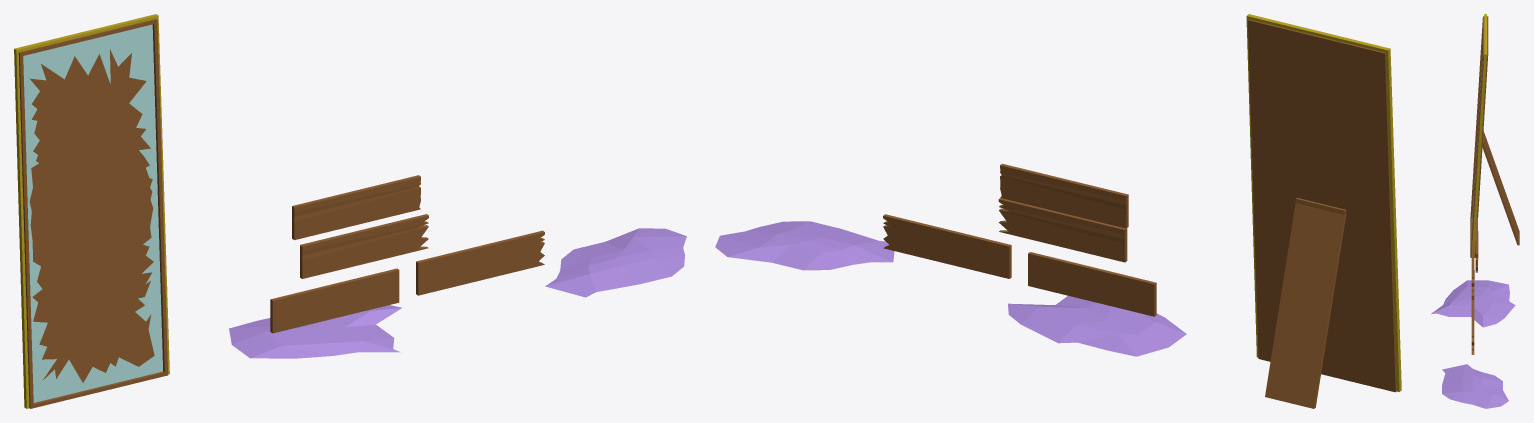
Rendered from Some Broken Things.fbx.
3 renders of one model, left to right at view 1: azimuth 30°, elevation 25°; view 2: azimuth 150°, elevation 25°; view 3: azimuth 270°, elevation 25°, orthographic. The views are drawn at different scales.
Parts seen in each view (by area): view 1: BrokenMirror, TornWallPiece2, TornWallPiece1, Log2, Log4, Log1, Log3; view 2: BrokenMirror, TornWallPiece1, TornWallPiece2, Log2, Log4, Log1, Log3; view 3: BrokenMirror, TornWallPiece1, TornWallPiece2, Log1, Log3, Log4.
Part boxes in pixels (x1=…): BrokenMirror: x1=14, y1=14, x2=169, y2=408; TornWallPiece2: x1=545, y1=228, x2=686, y2=297; TornWallPiece1: x1=229, y1=305, x2=402, y2=358; Log2: x1=270, y1=268, x2=399, y2=333; Log4: x1=292, y1=175, x2=420, y2=240; Log1: x1=416, y1=230, x2=544, y2=295; Log3: x1=300, y1=214, x2=428, y2=278; BrokenMirror: x1=1246, y1=14, x2=1401, y2=408; TornWallPiece1: x1=1008, y1=296, x2=1186, y2=356; TornWallPiece2: x1=715, y1=221, x2=894, y2=270; Log2: x1=1028, y1=252, x2=1156, y2=316; Log4: x1=1000, y1=163, x2=1128, y2=228; Log1: x1=883, y1=214, x2=1011, y2=278; Log3: x1=998, y1=198, x2=1127, y2=262; BrokenMirror: x1=1470, y1=14, x2=1519, y2=257; TornWallPiece1: x1=1431, y1=280, x2=1515, y2=327; TornWallPiece2: x1=1442, y1=364, x2=1508, y2=408; Log1: x1=1471, y1=300, x2=1474, y2=354; Log3: x1=1471, y1=241, x2=1474, y2=295; Log4: x1=1475, y1=217, x2=1478, y2=272.
Size of the model in its own units: 3.31 by 1.65 by 0.6534.
